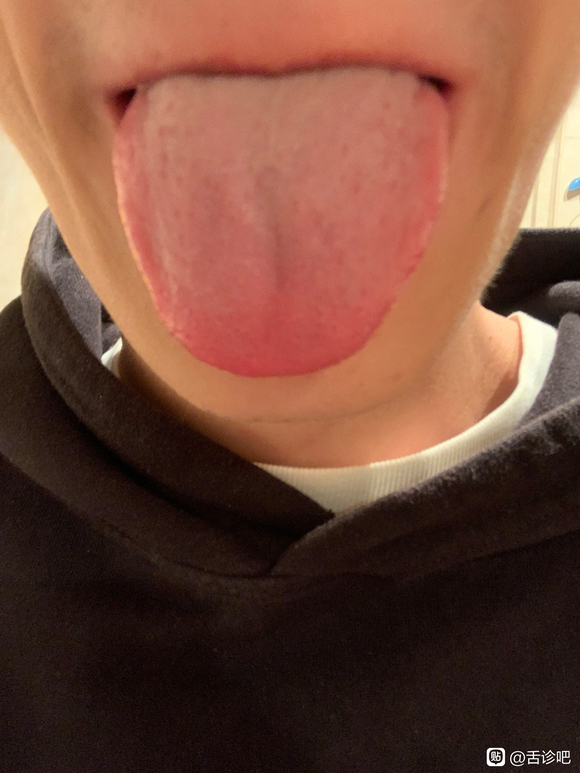gandanao: (112, 86, 184, 326)
hongshe: (111, 67, 449, 379)
huangtaishe: (111, 66, 449, 378)
